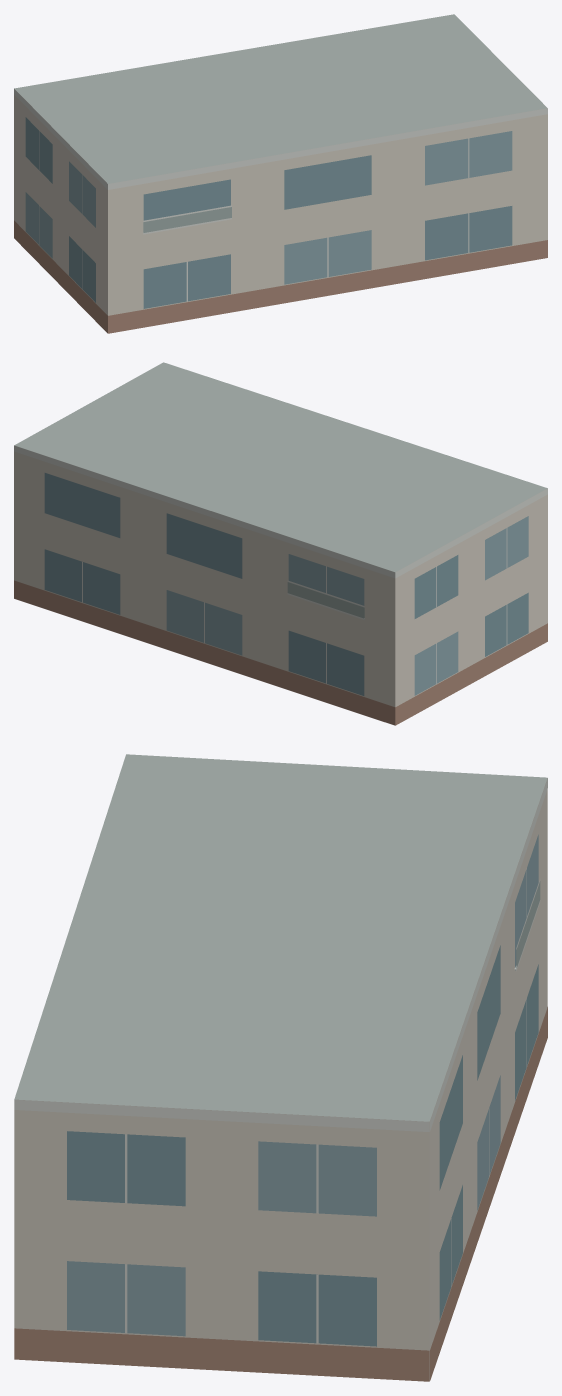
Rendered from survey-upis-32684267.glb.
3 views of the same model, one above another, from view 1: azimuth 30°, elevation 25°; view 2: azimuth 150°, elevation 25°; view 3: azimuth 270°, elevation 25° (orthographic). The views are drawn at different scales.
Visible parts, largest first — view 1: survey-upis-32684267.tmp; view 2: survey-upis-32684267.tmp; view 3: survey-upis-32684267.tmp.
Boxes of the visible parts, left/top/right/bottom form: survey-upis-32684267.tmp: left=14, top=14, right=547, bottom=333; survey-upis-32684267.tmp: left=14, top=362, right=547, bottom=725; survey-upis-32684267.tmp: left=14, top=754, right=547, bottom=1381.
Bounding box in the file's own units: 18.51 × 6.1 × 11.36.
